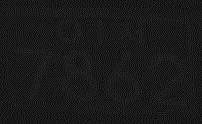0: (55, 18, 83, 44)
1: (87, 17, 112, 45)
2: (147, 52, 188, 108)
6: (105, 49, 141, 104)
7: (12, 46, 53, 99)
8: (60, 48, 94, 100)
서: (116, 19, 146, 45)
